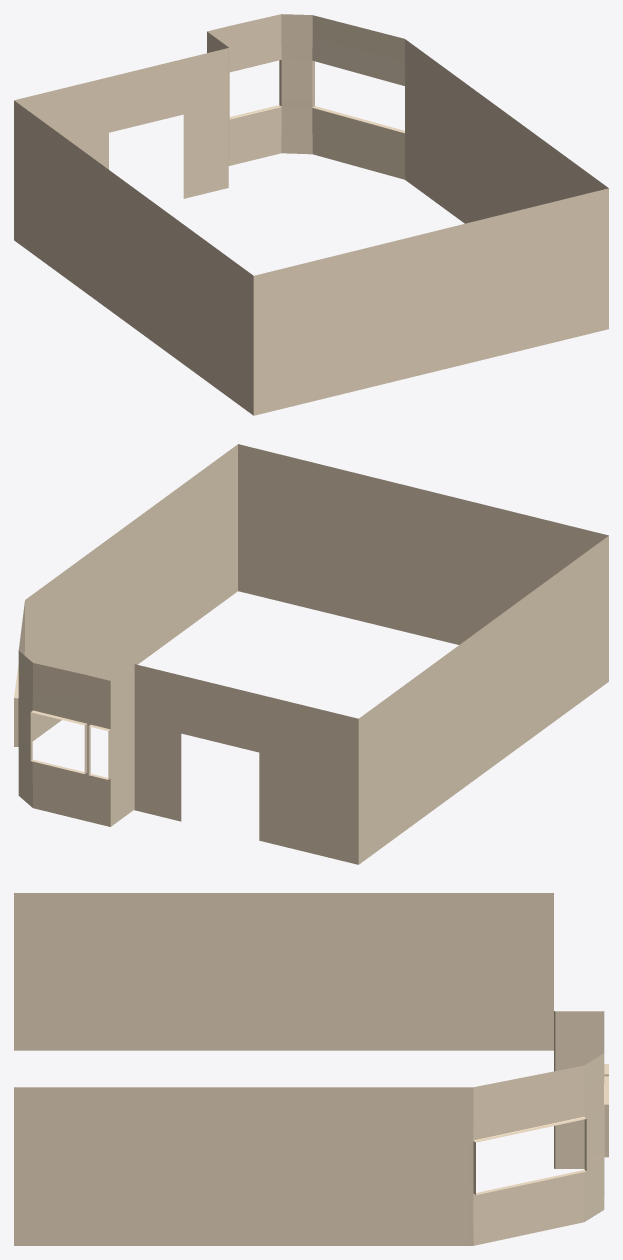
File: Walls_Merged_NoWindow_Final.fbx
3 renders of one model, top to bottom at view 1: azimuth 30°, elevation 25°; view 2: azimuth 150°, elevation 25°; view 3: azimuth 270°, elevation 25°, orthographic. The views are drawn at different scales.
Visible parts, largest first — view 1: Walls_Merged_Final; view 2: Walls_Merged_Final; view 3: Walls_Merged_Final.
Boxes of the visible parts, x1,y1,x2,y2 form: Walls_Merged_Final: (14, 14, 608, 415); Walls_Merged_Final: (14, 444, 608, 864); Walls_Merged_Final: (14, 893, 608, 1245).
Size of the model in its own units: 1215 by 456 by 1550.
